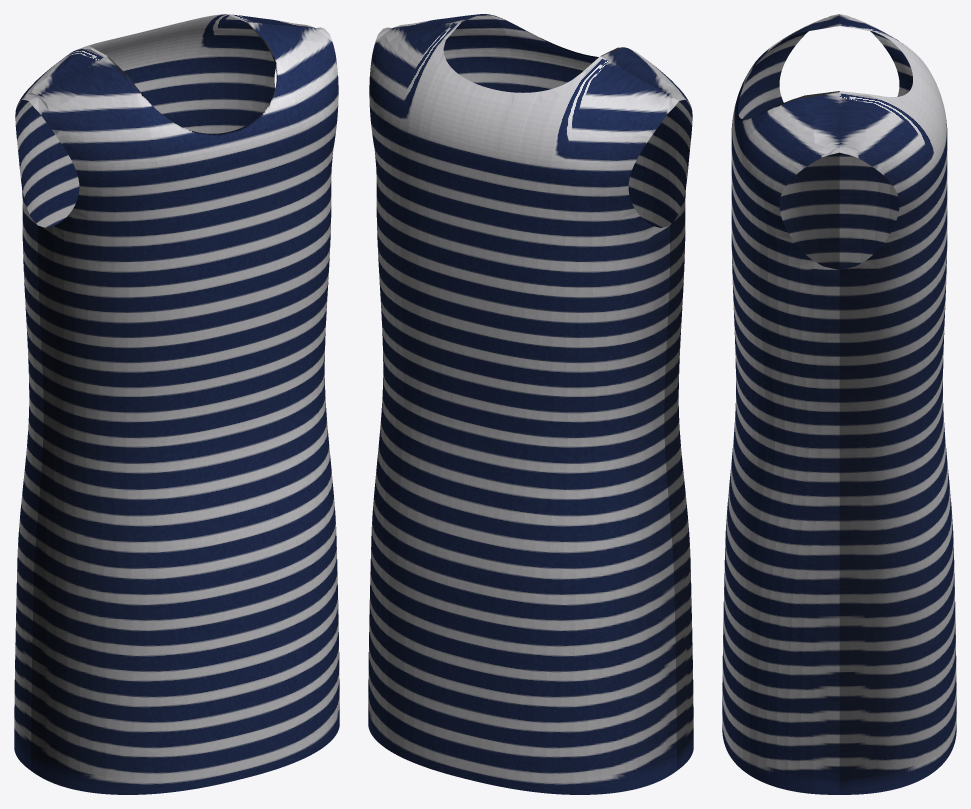
Rendered from hybrid__T1_straight_sleeveless.glb.
3 renders of one model, left to right at view 1: azimuth 30°, elevation 25°; view 2: azimuth 150°, elevation 25°; view 3: azimuth 270°, elevation 25°, orthographic. The views are drawn at different scales.
Visible parts, largest first — view 1: geometry_0; view 2: geometry_0; view 3: geometry_0.
Part boxes in pixels (bbox=[...]): geometry_0: bbox=[14, 14, 339, 794]; geometry_0: bbox=[368, 14, 693, 794]; geometry_0: bbox=[722, 14, 956, 794].
Size of the model in its own units: 0.3707 by 0.8315 by 0.2644.
Materials: 1 (1 with a texture image).
